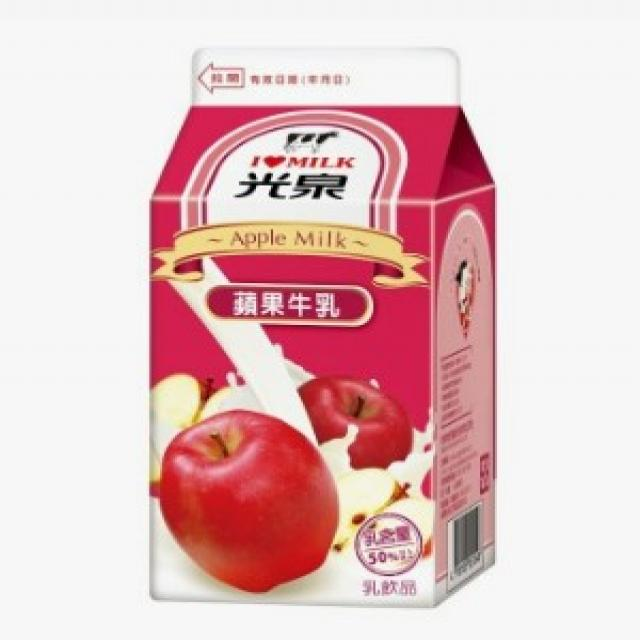non_white_jug: (118, 28, 524, 612)
